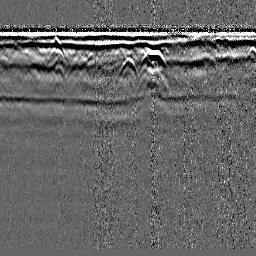cavity: (117, 54, 138, 76)
